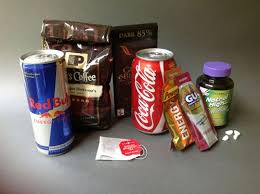can: (17, 51, 73, 152), (134, 39, 165, 147)
